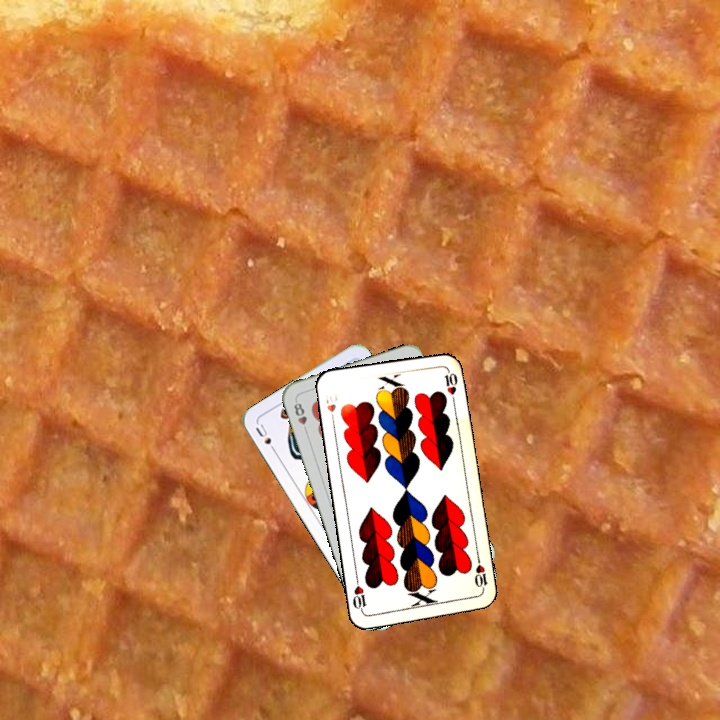H10: (470, 554, 490, 594), (321, 389, 340, 426)
H8: (290, 397, 310, 436)
SU: (251, 420, 280, 456)
